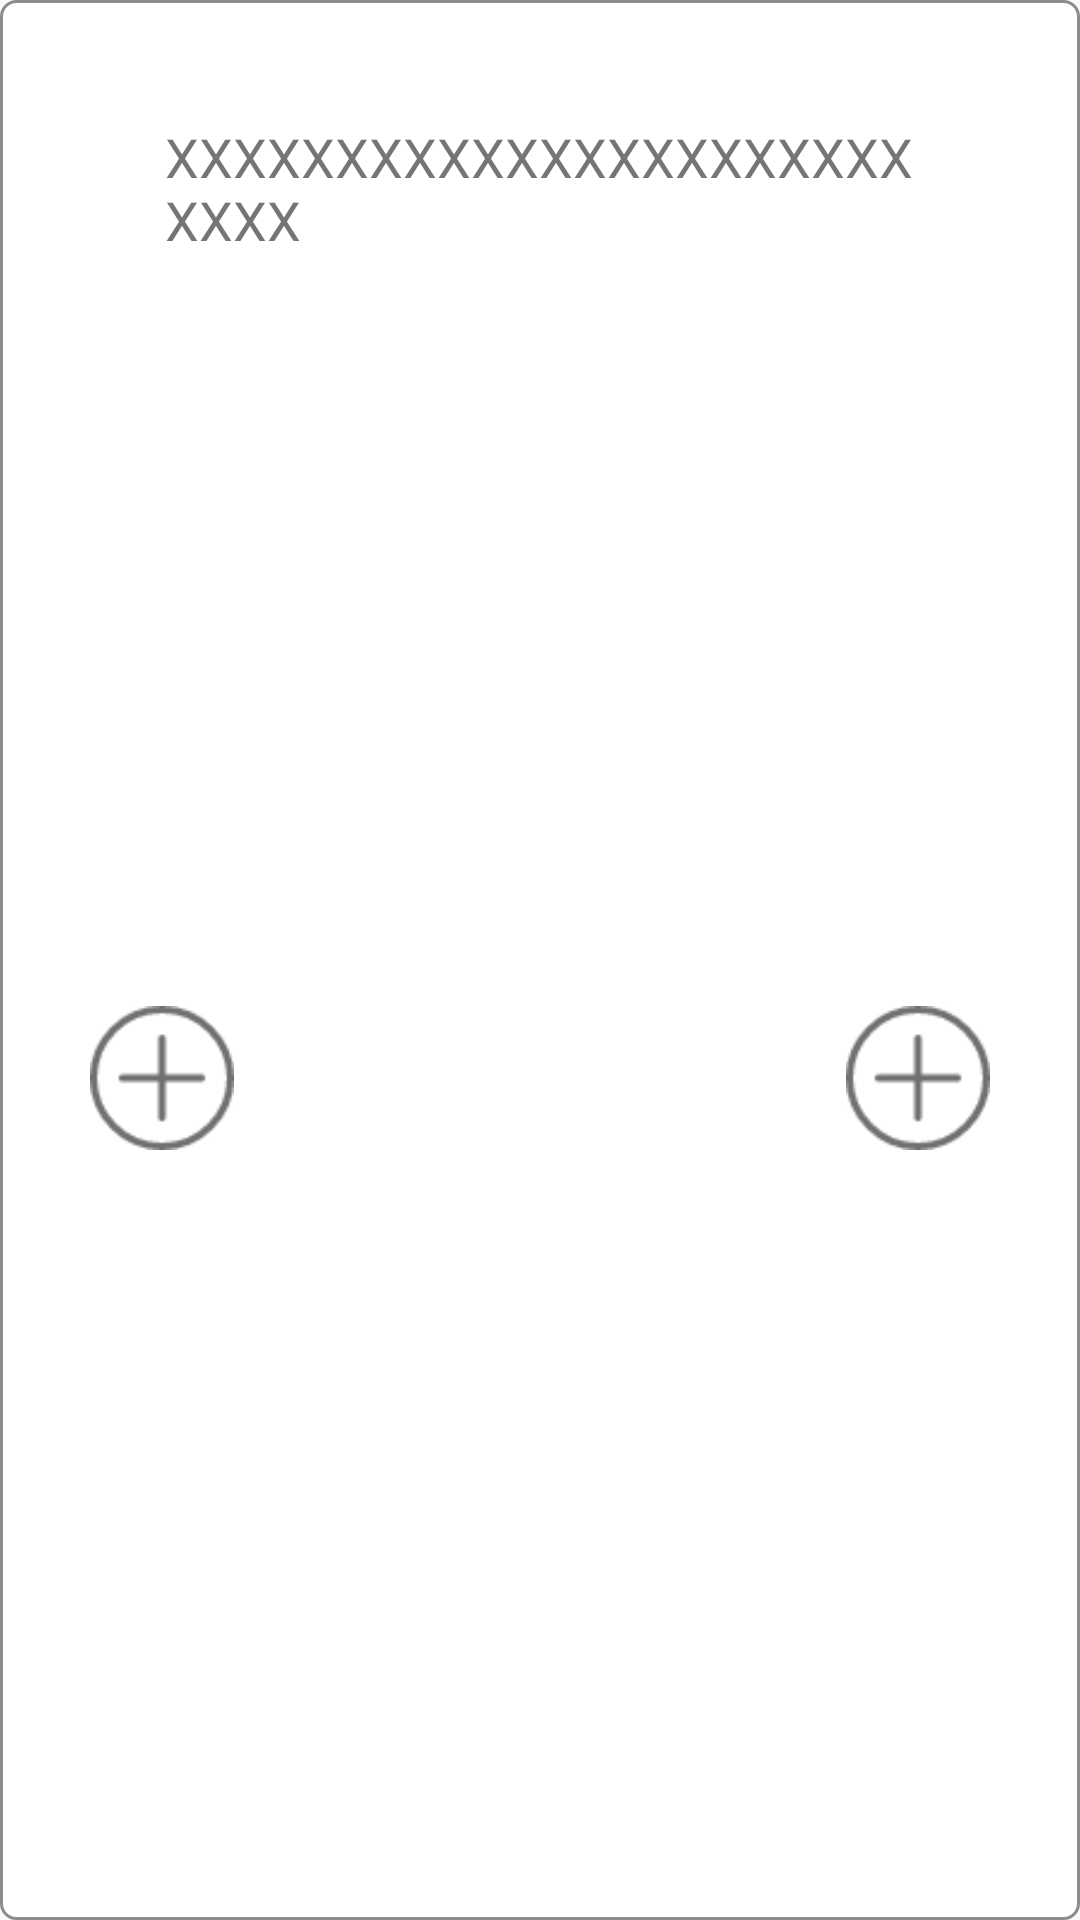

Icon click points for this 1080*1920 phone screenshot, format [x,y]:
add event: [162,1078], [918,1078]
